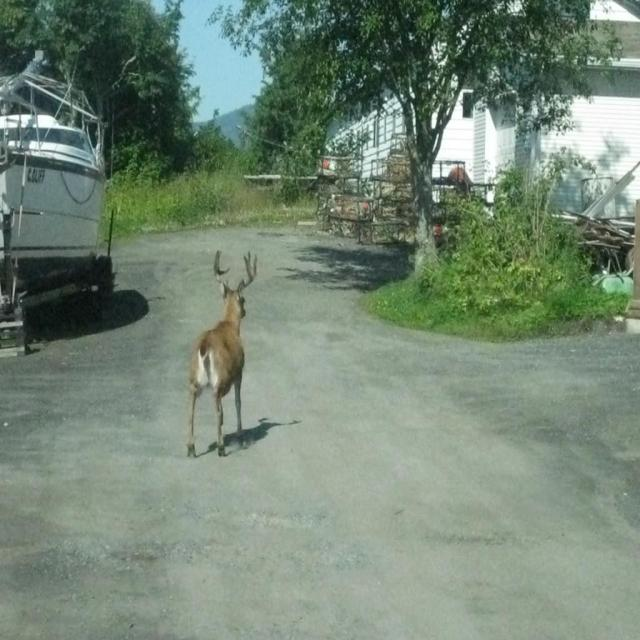Deer: (188, 252, 256, 458)
